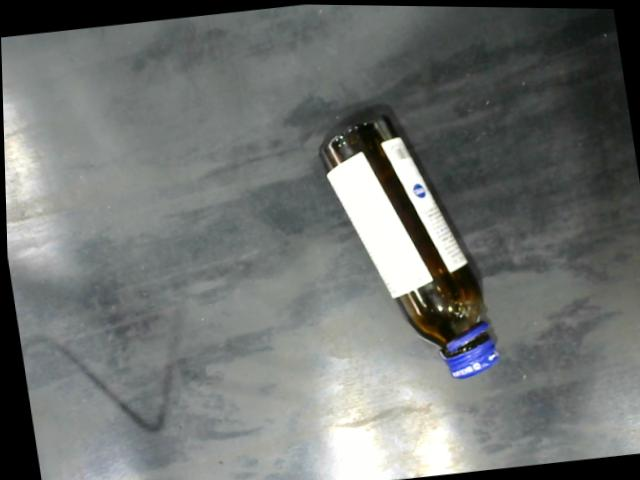glass: (315, 111, 506, 386)
